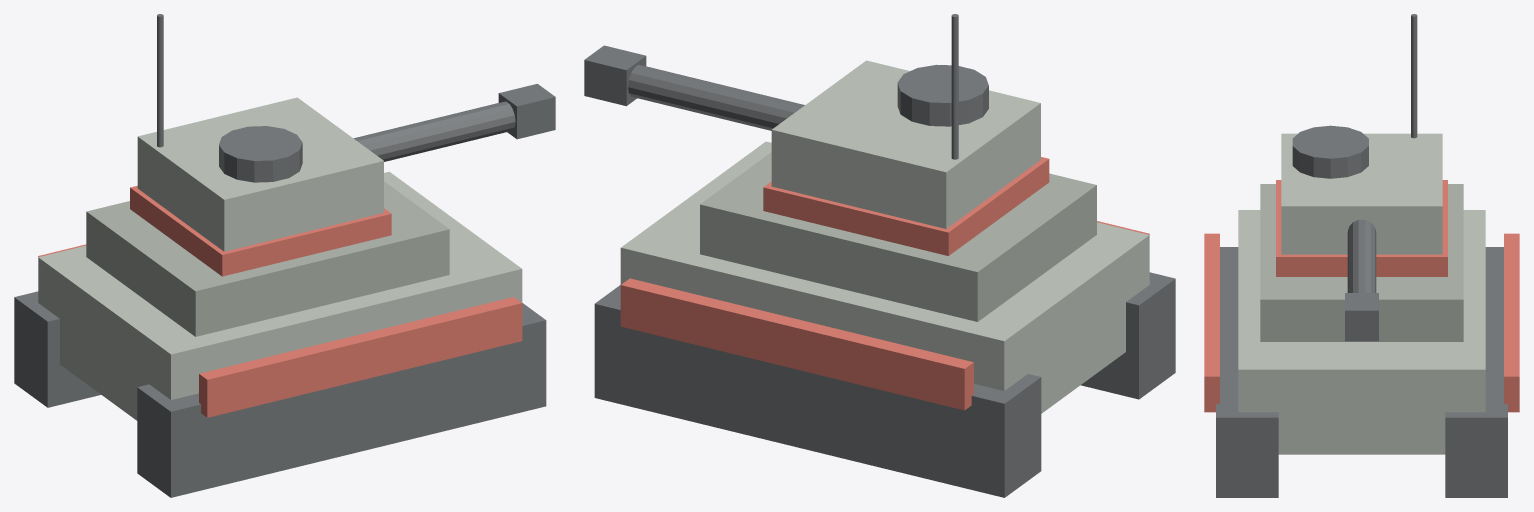
Rendered from tank_red.glb.
3 views of the same model, side by side, from view 1: azimuth 30°, elevation 25°; view 2: azimuth 150°, elevation 25°; view 3: azimuth 270°, elevation 25° (orthographic). The views are drawn at different scales.
Parts seen in each view (by area): view 1: part00, part02, part03, part06, part04, part07, part01, part08, part10, part09, part11; view 2: part01, part02, part03, part06, part05, part07, part00, part08, part10, part09, part11; view 3: part02, part06, part03, part00, part01, part07, part10, part04, part05, part08, part09, part11.
Boxes of the visible parts, bbox=[...] form: part00: bbox=[137, 303, 546, 497]; part02: bbox=[38, 171, 522, 420]; part03: bbox=[86, 181, 449, 336]; part06: bbox=[137, 97, 383, 251]; part04: bbox=[199, 297, 522, 417]; part07: bbox=[130, 185, 391, 276]; part01: bbox=[14, 291, 100, 407]; part08: bbox=[354, 101, 515, 161]; part10: bbox=[219, 126, 302, 182]; part09: bbox=[498, 83, 555, 139]; part11: bbox=[157, 14, 163, 147]; part01: bbox=[594, 285, 1041, 497]; part02: bbox=[620, 141, 1149, 413]; part03: bbox=[700, 152, 1096, 321]; part06: bbox=[771, 60, 1040, 228]; part05: bbox=[620, 278, 973, 410]; part07: bbox=[763, 157, 1049, 255]; part00: bbox=[1081, 272, 1175, 399]; part08: bbox=[628, 65, 804, 130]; part10: bbox=[897, 64, 988, 126]; part09: bbox=[584, 45, 646, 106]; part11: bbox=[951, 14, 958, 159]; part02: bbox=[1238, 210, 1485, 454]; part06: bbox=[1281, 133, 1442, 254]; part03: bbox=[1260, 184, 1463, 341]; part00: bbox=[1216, 247, 1278, 497]; part01: bbox=[1445, 247, 1507, 497]; part07: bbox=[1276, 180, 1447, 276]; part10: bbox=[1292, 125, 1368, 178]; part04: bbox=[1204, 233, 1219, 412]; part05: bbox=[1504, 233, 1519, 412]; part08: bbox=[1347, 219, 1376, 292]; part09: bbox=[1345, 293, 1378, 341]; part11: bbox=[1411, 14, 1417, 138].
Size of the model in its own units: 1.88 by 1.5 by 1.21.
